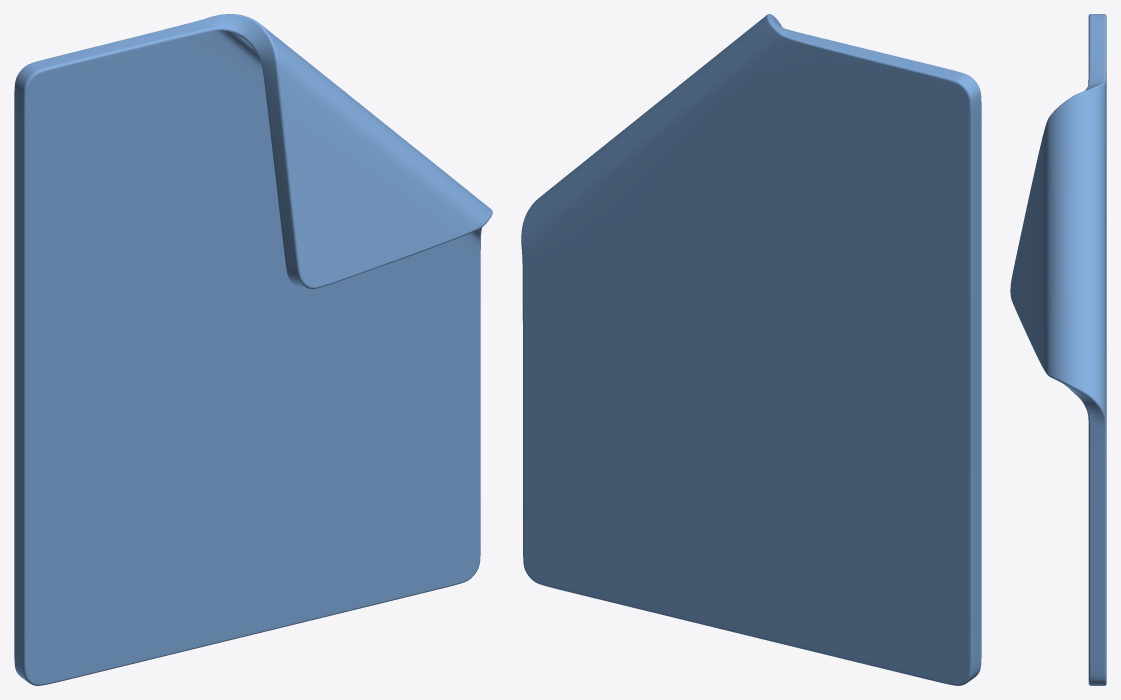
The picture shows the model from 3 angles, left to right: view 1: azimuth 30°, elevation 25°; view 2: azimuth 150°, elevation 25°; view 3: azimuth 270°, elevation 25°; orthographic projection. The views are drawn at different scales.
Parts seen in each view (by area): view 1: File Plane; view 2: File Plane; view 3: File Plane.
Boxes of the visible parts, left/top/right/bottom form: File Plane: left=14, top=14, right=492, bottom=685; File Plane: left=521, top=14, right=981, bottom=685; File Plane: left=1010, top=14, right=1106, bottom=685.
Bounding box in the file's own units: 1.48 × 1.91 × 0.3274.
